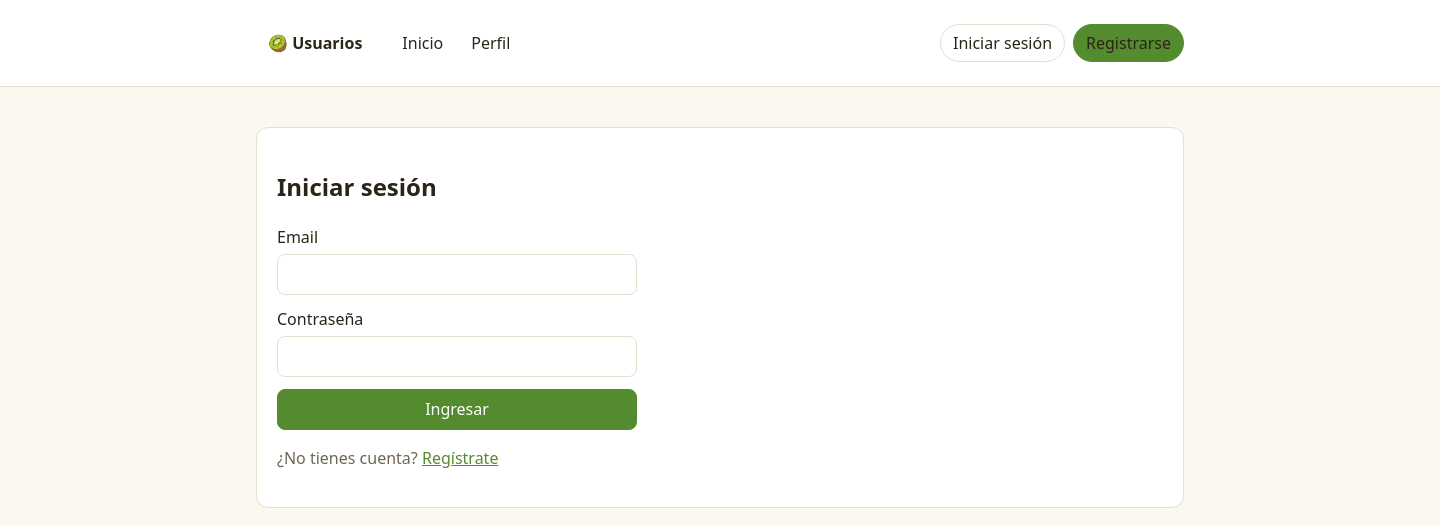
Test: Manejo de usuario › una ruta protegida redirige a login y vuelve tras iniciar sesión
The width and height of the screenshot is (1440, 525).
Check: the heading "Iniciar sesión" is shown, box x1=277 y1=170 x2=437 y2=203
In the field labelled "Email": coordinates (457, 274) x1=277 y1=254 x2=637 y2=295, type "user@kiwi.cl"
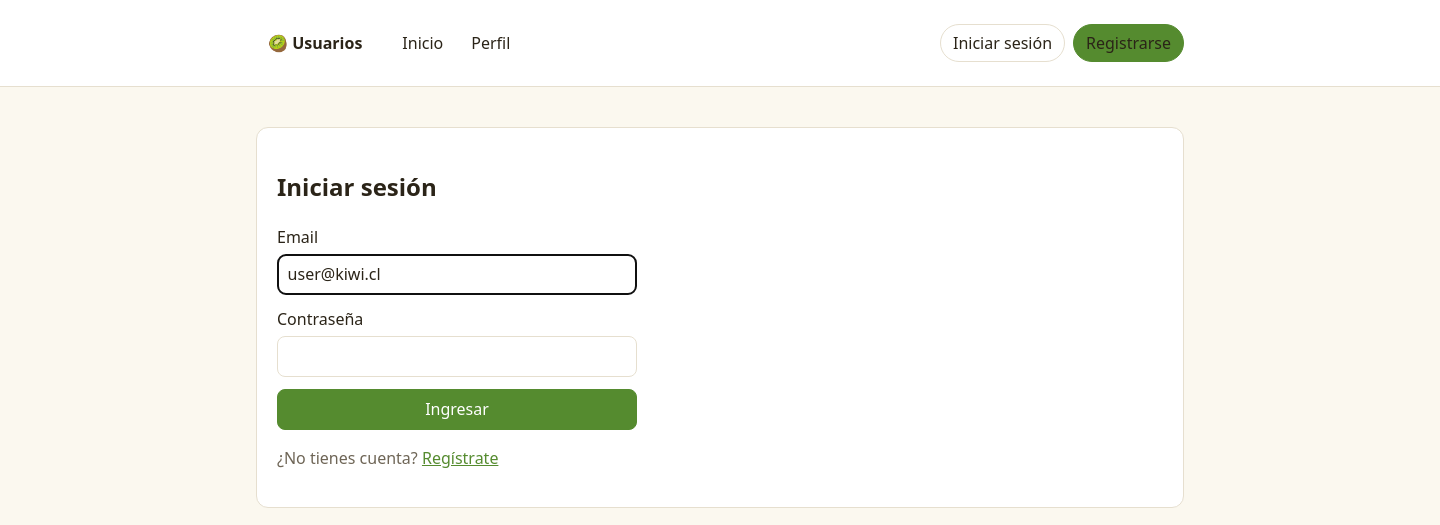
In the password field labelled "Contraseña": coordinates (457, 356) x1=277 y1=336 x2=637 y2=377, type "user123"
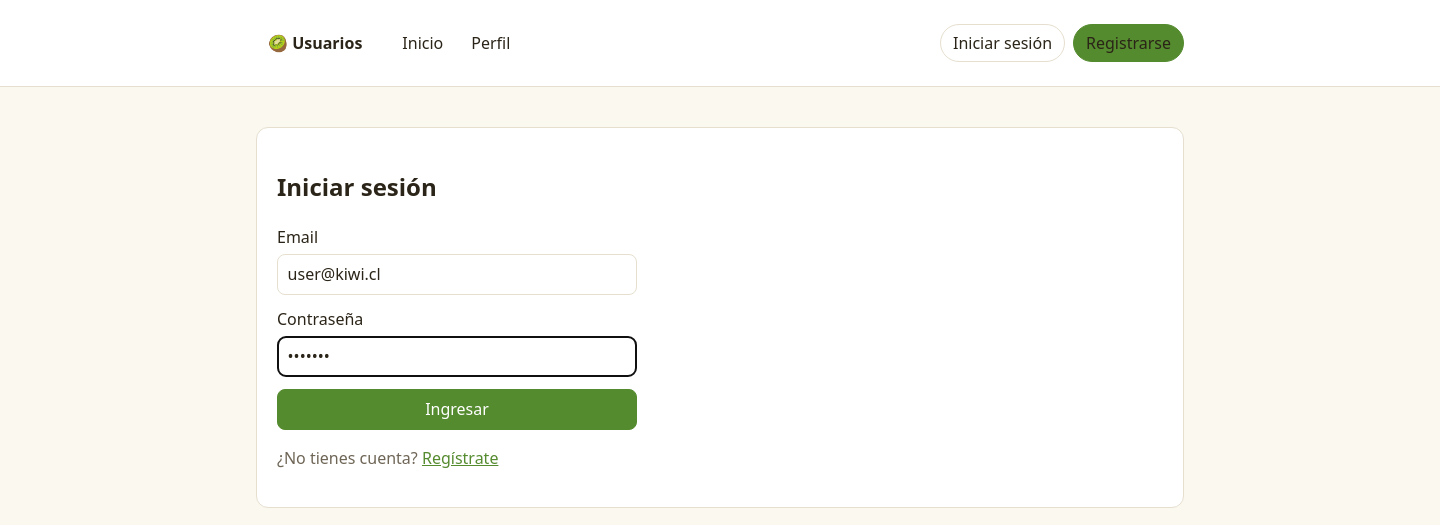
Click the button "Ingresar": coordinates (457, 410) x1=277 y1=389 x2=637 y2=430
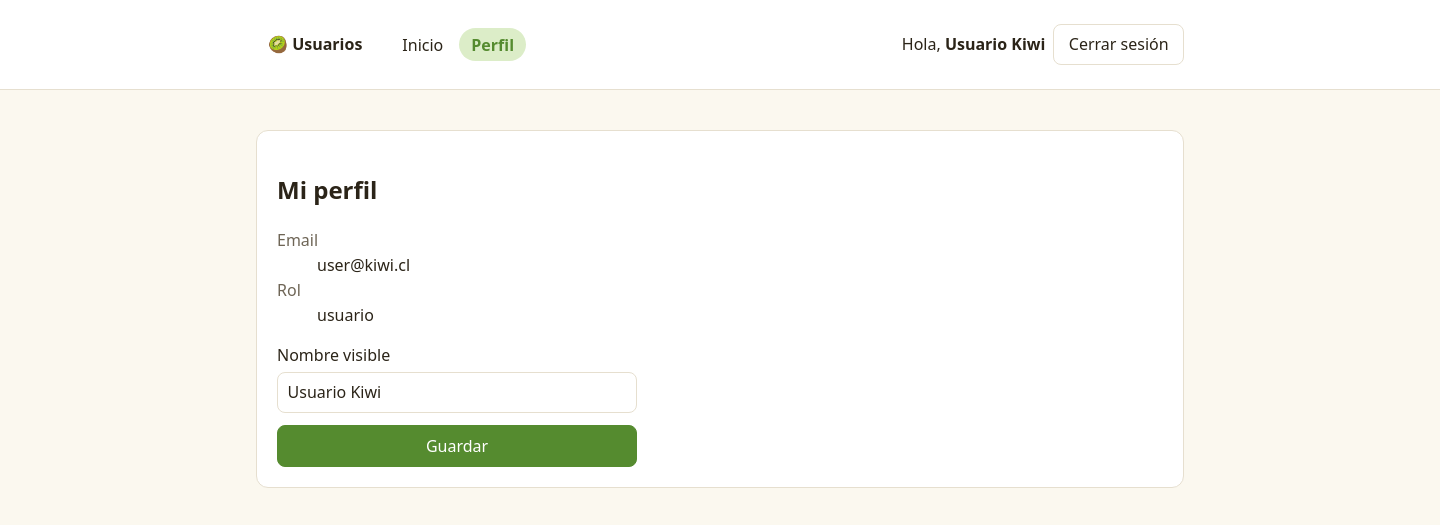
Check: the heading "Mi perfil" is shown, box x1=277 y1=173 x2=377 y2=206
Check: the text "Hola," is shown, box x1=902 y1=33 x2=945 y2=55
Check: the text "user@kiwi.cl" is shown, box x1=317 y1=254 x2=410 y2=276
